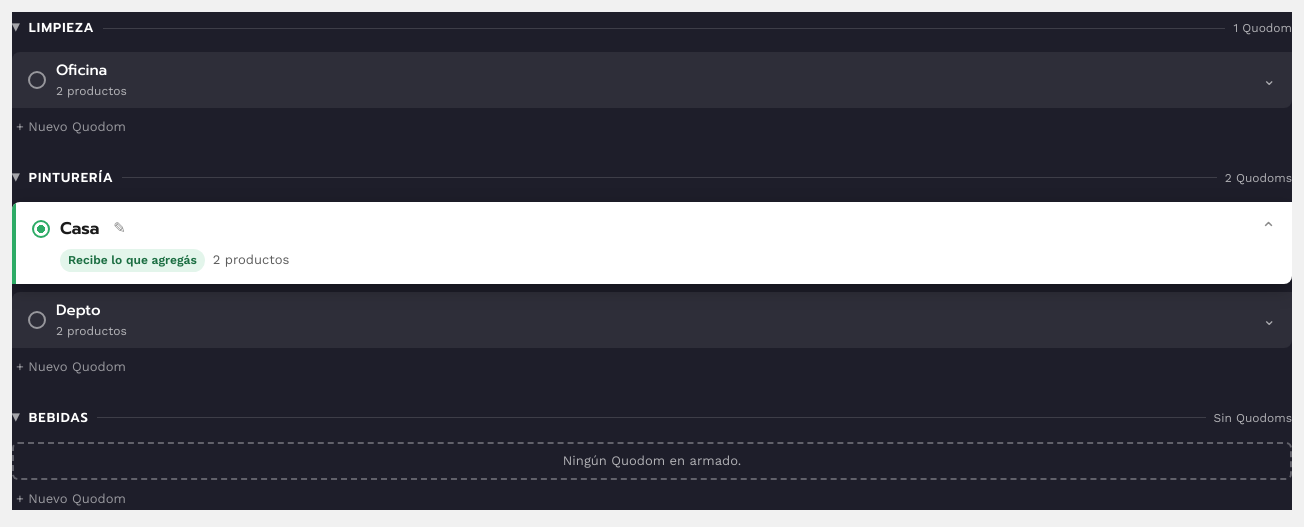
Test: ArbolQuodoms: renombrar desde el panel › si el servidor falla lo dice y deja el campo abierto
The image size is (1304, 527).
Click the button named "Cambiar el nombre" at point(120, 229), box top-left (106, 215), bottom-right (134, 243)
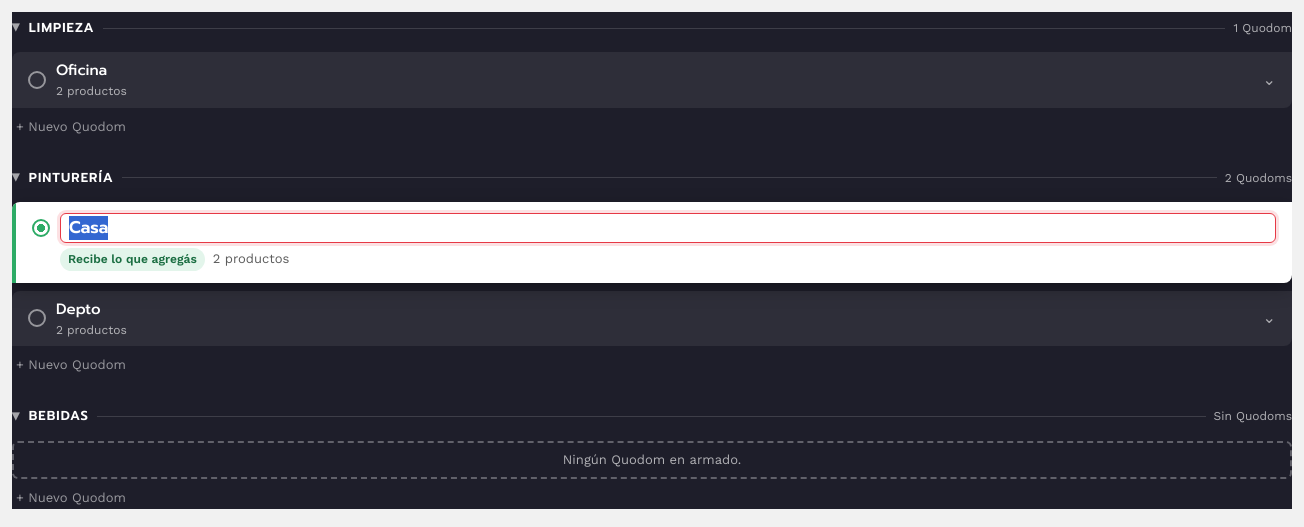
Replace the text in the field named "Nombre del Quodom" with "Casa nueva" at point(668, 228), box top-left (60, 213), bottom-right (1276, 243)
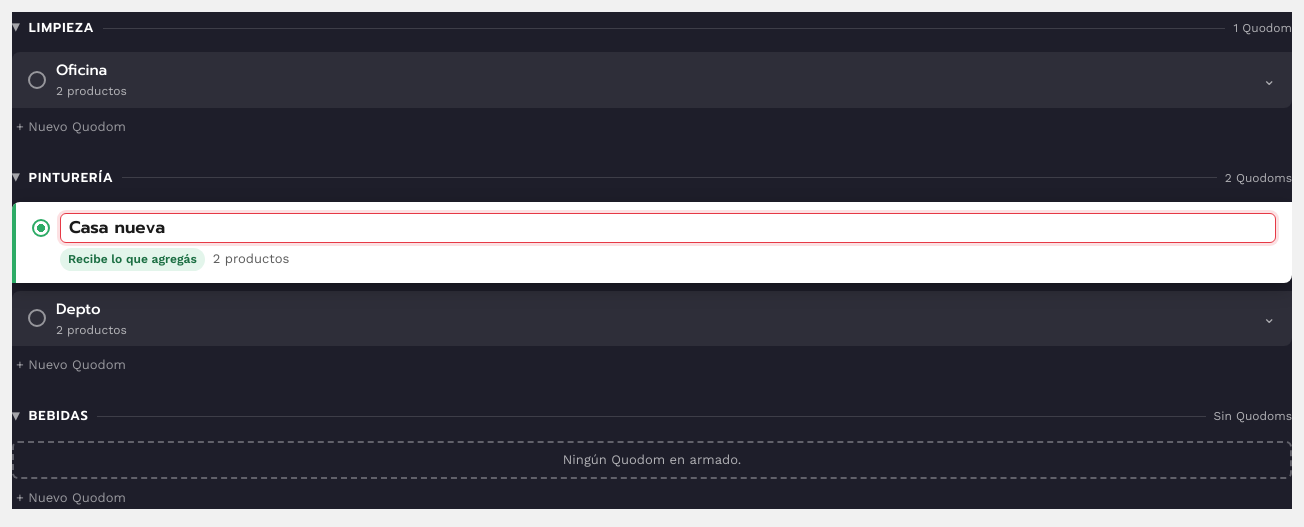
Press Enter in the field named "Nombre del Quodom", box top-left (60, 213), bottom-right (1276, 243)
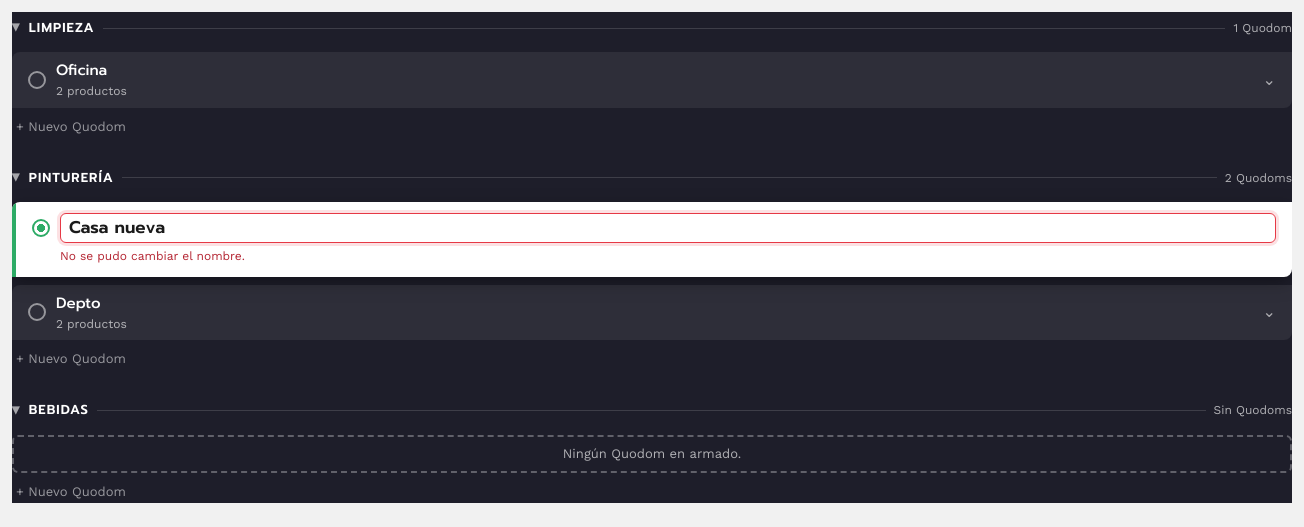
expect the message reads "No se pudo cambiar el nombre.": met, box top-left (60, 249), bottom-right (245, 263)
